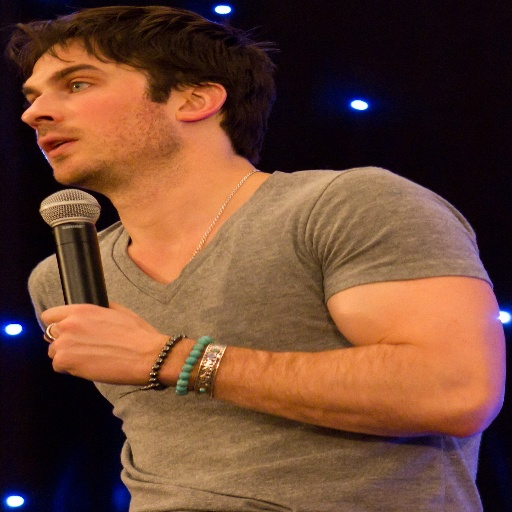hand: (36, 295, 207, 393)
